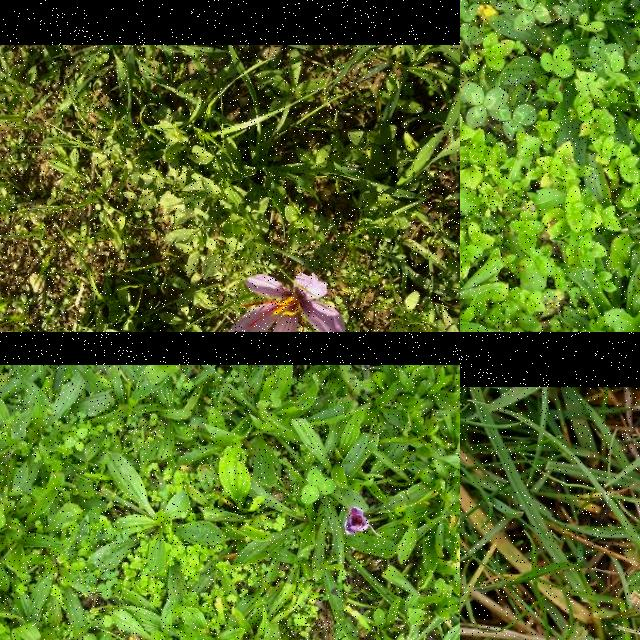flower: (221, 273, 347, 332), (344, 506, 370, 534)
